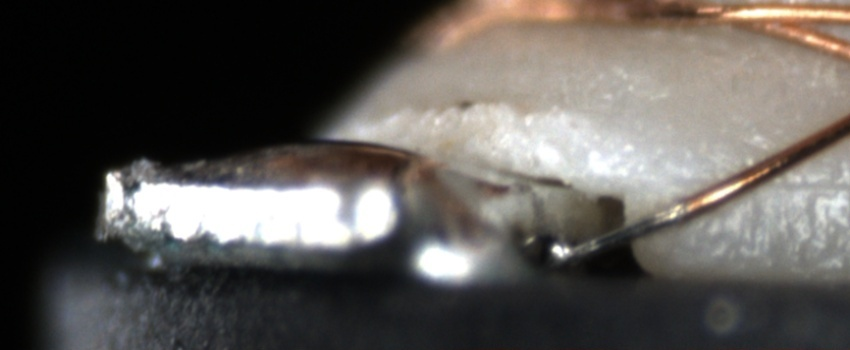DL: (680, 155, 849, 215)
TS: (568, 202, 690, 261)
